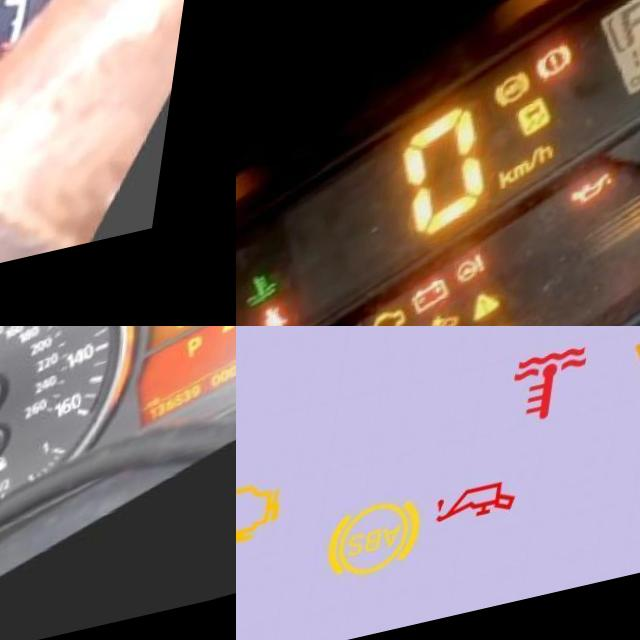High Engine Coolant Temperature: (239, 271, 287, 321)
Seat Belt: (255, 306, 296, 326)
